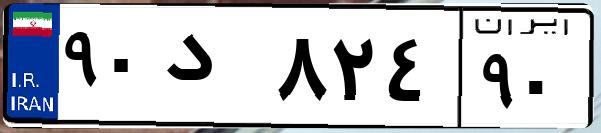0: (525, 38, 570, 115), (110, 28, 158, 98)
2: (330, 28, 385, 110)
4: (385, 28, 445, 110)
8: (270, 28, 330, 110)
9: (57, 26, 110, 100), (475, 38, 525, 113)
د: (158, 20, 270, 120)
